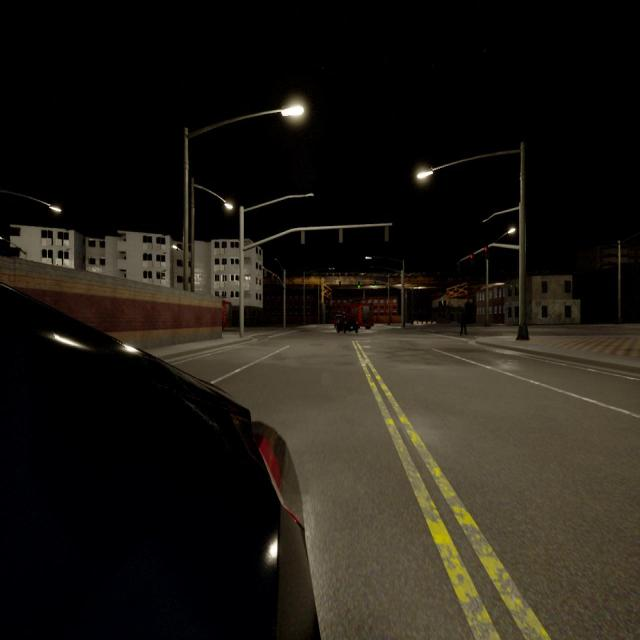Pedestrian: (460, 310, 467, 335)
Vehicle: (0, 292, 314, 637), (358, 305, 373, 329), (337, 317, 357, 333), (222, 300, 231, 328)
traffic_light: (385, 226, 389, 241), (339, 228, 343, 242), (484, 247, 488, 257), (302, 231, 305, 243), (470, 254, 473, 263), (339, 280, 341, 288), (358, 281, 360, 288), (374, 281, 376, 288)
